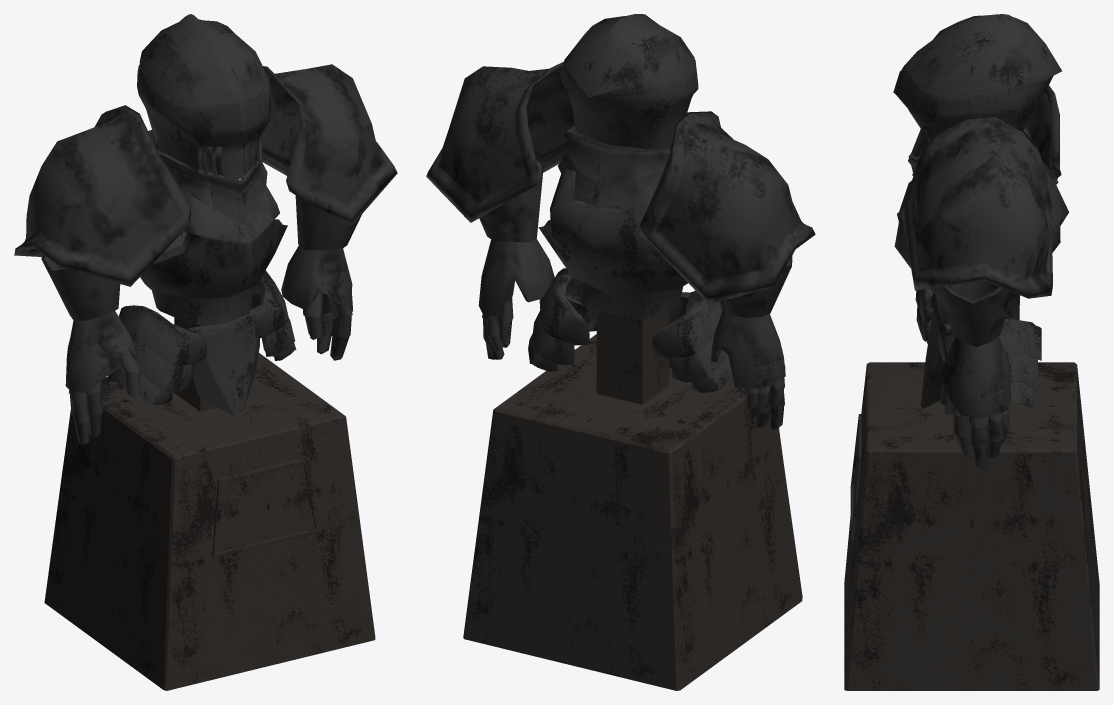
The model's file is statsue.fbx.
3 views of the same model, side by side, from view 1: azimuth 30°, elevation 25°; view 2: azimuth 150°, elevation 25°; view 3: azimuth 270°, elevation 25° (orthographic). The views are drawn at different scales.
Parts seen in each view (by area): view 1: statsue; view 2: statsue; view 3: statsue.
Part boxes in pixels (x1=…): statsue: x1=14, y1=14, x2=397, y2=690; statsue: x1=426, y1=14, x2=815, y2=690; statsue: x1=844, y1=14, x2=1099, y2=690.
Size of the model in its own units: 119 by 197 by 73.31.
Materials: 2 (2 with a texture image).
